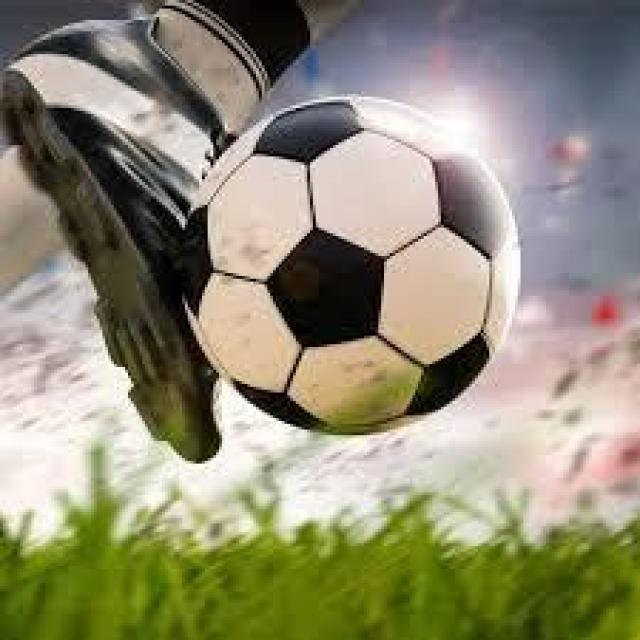Soccer Ball: (196, 91, 526, 427)
